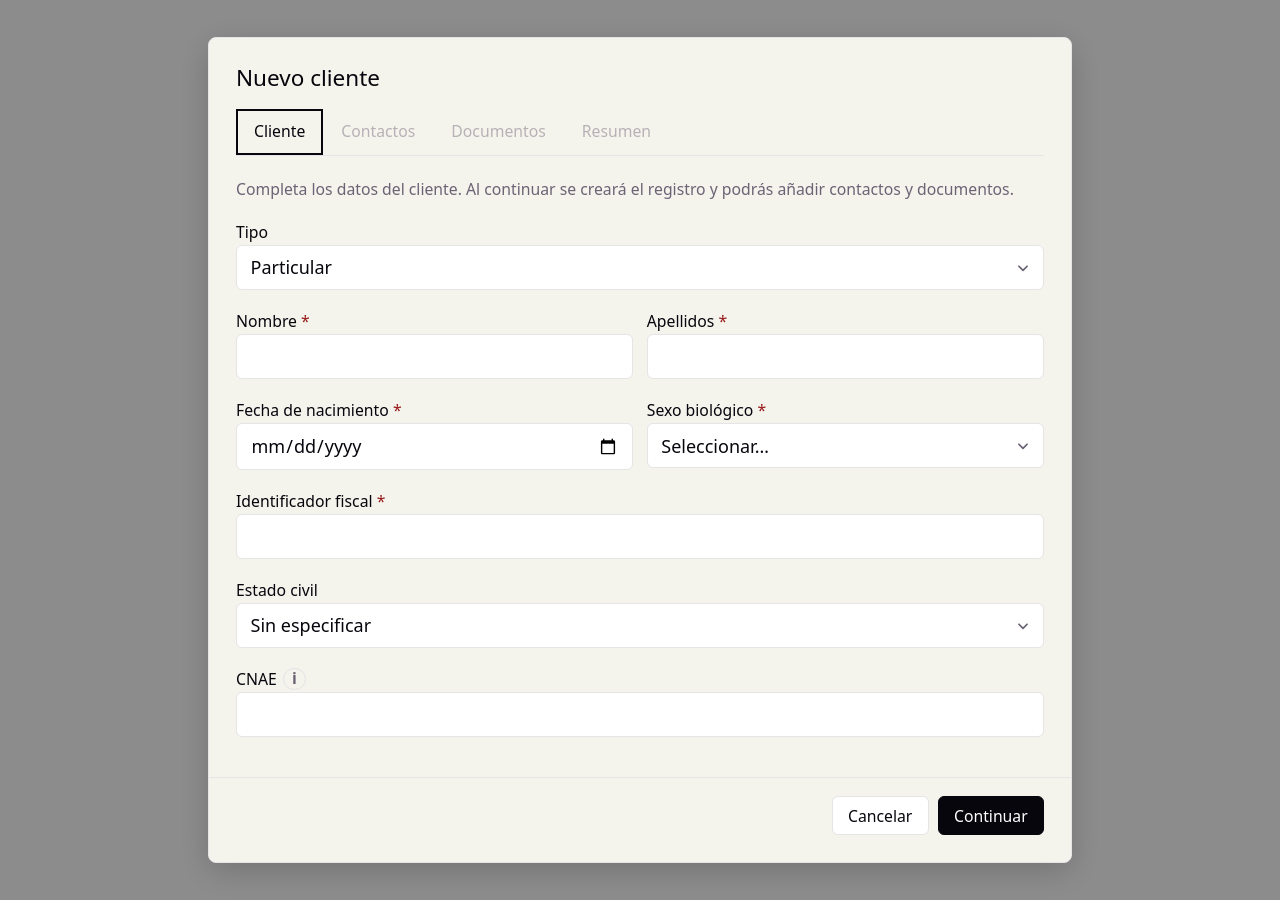
Test: CustomerOnboardingWizard › creates the customer when leaving the first tab and unlocks later tabs
Type "Juan" into the field labelled "Nombre *" at coordinates (435, 357), box [236,334,633,379]
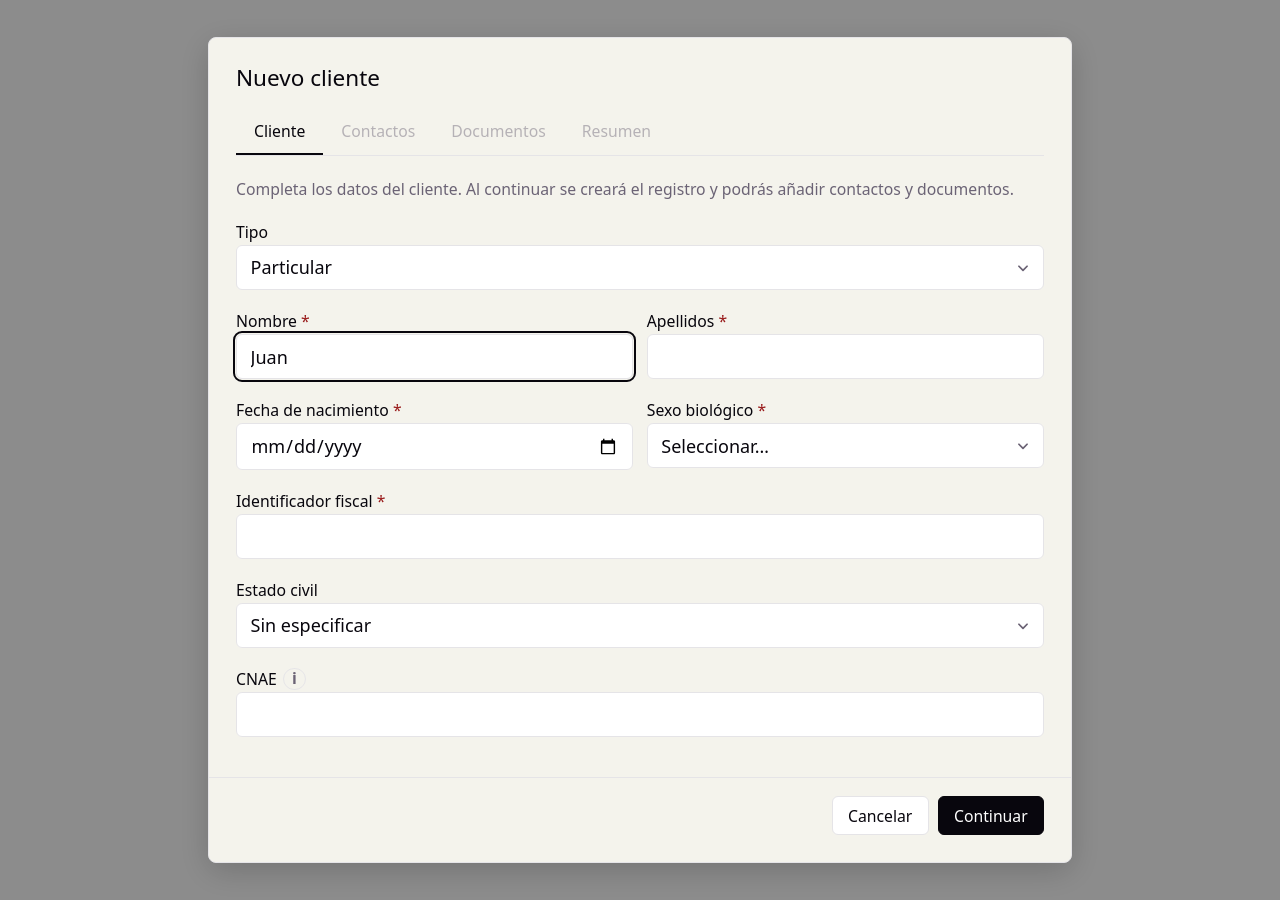
Type "Pérez" into the field labelled "Apellidos *" at coordinates (845, 357), box [647,334,1044,379]
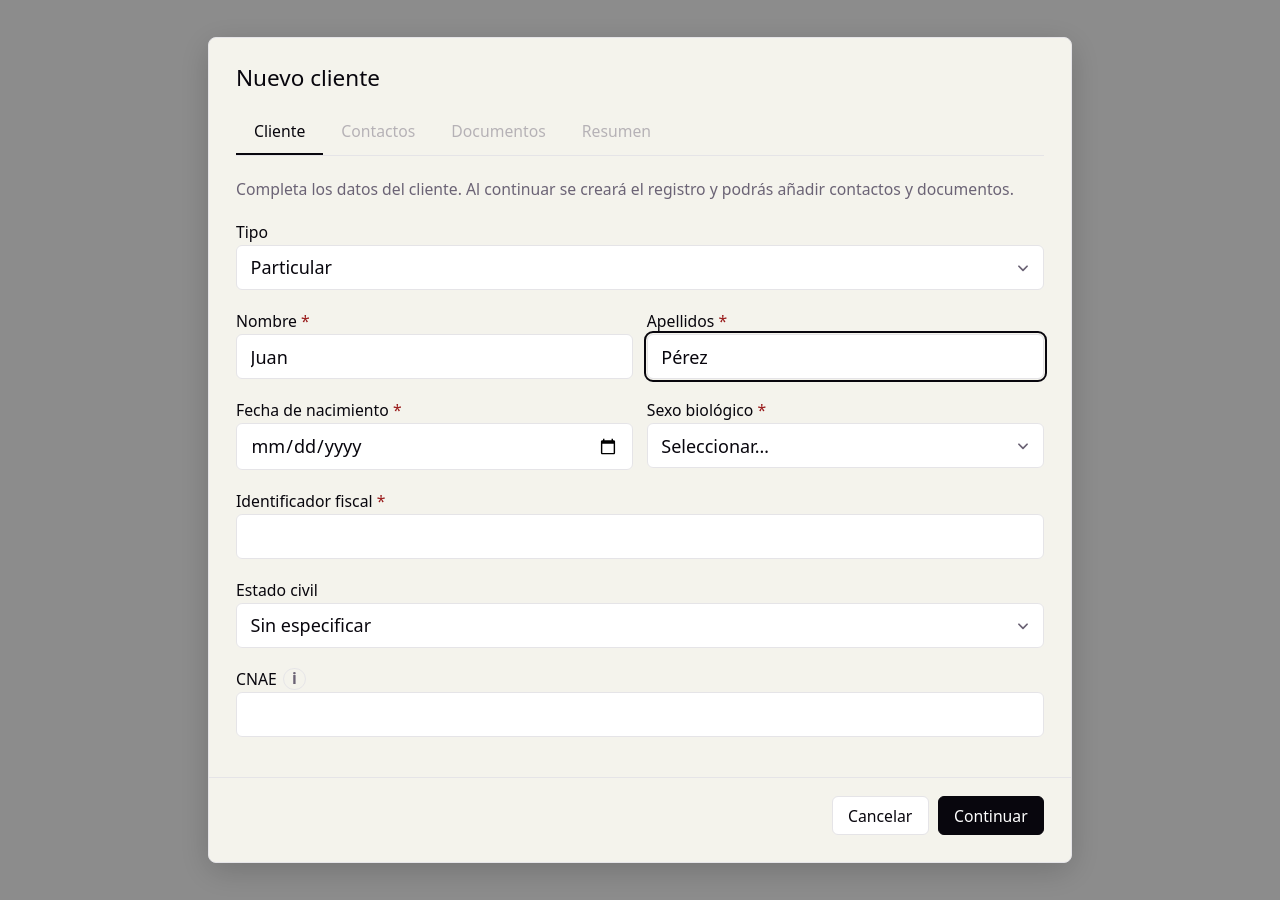
Type "1985-03-10" into the date field labelled "Fecha de nacimiento *" at coordinates (435, 447), box [236,423,633,470]
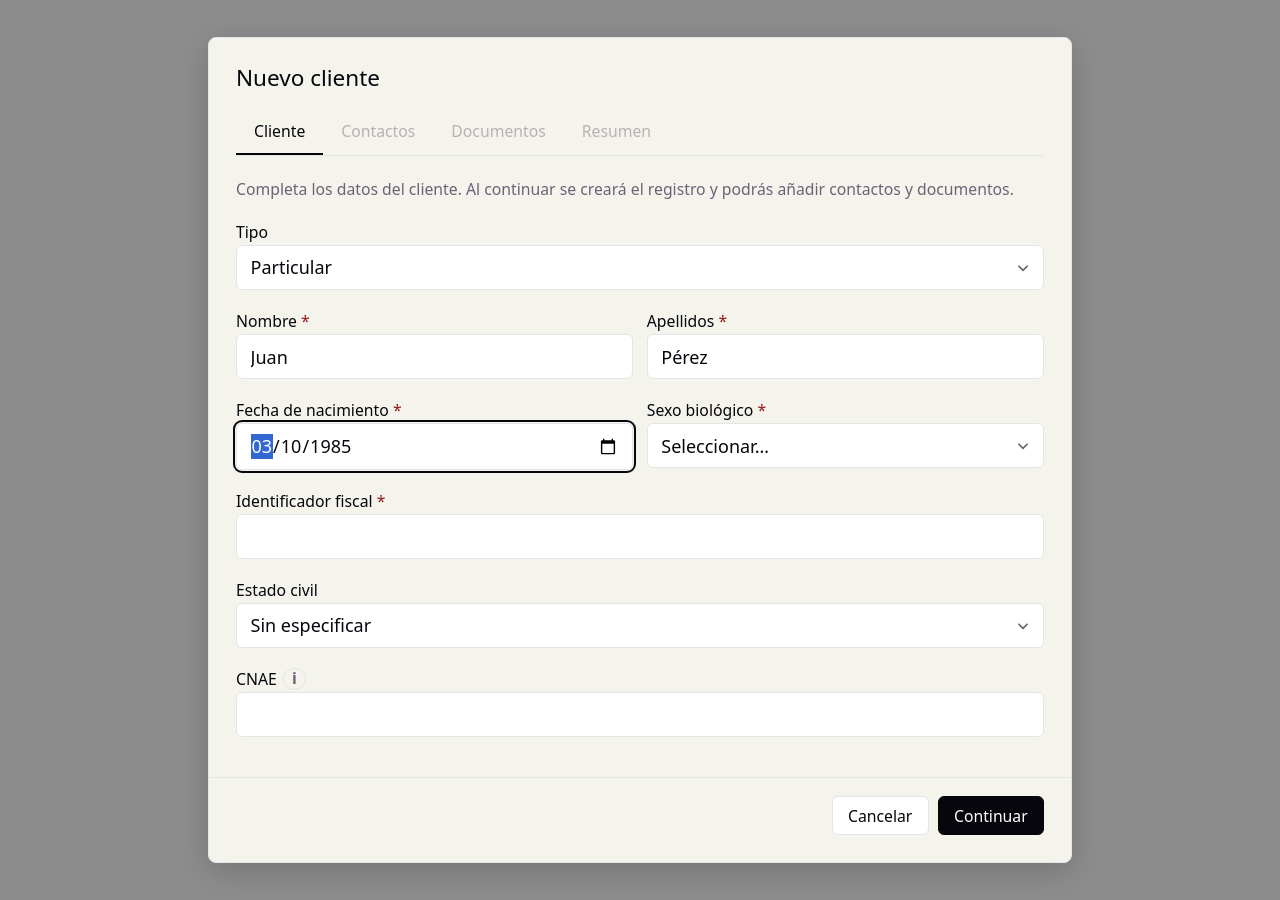
Select "Masculino" in the dropdown labelled "Sexo biológico *" at coordinates (845, 446), box [647,423,1044,468]
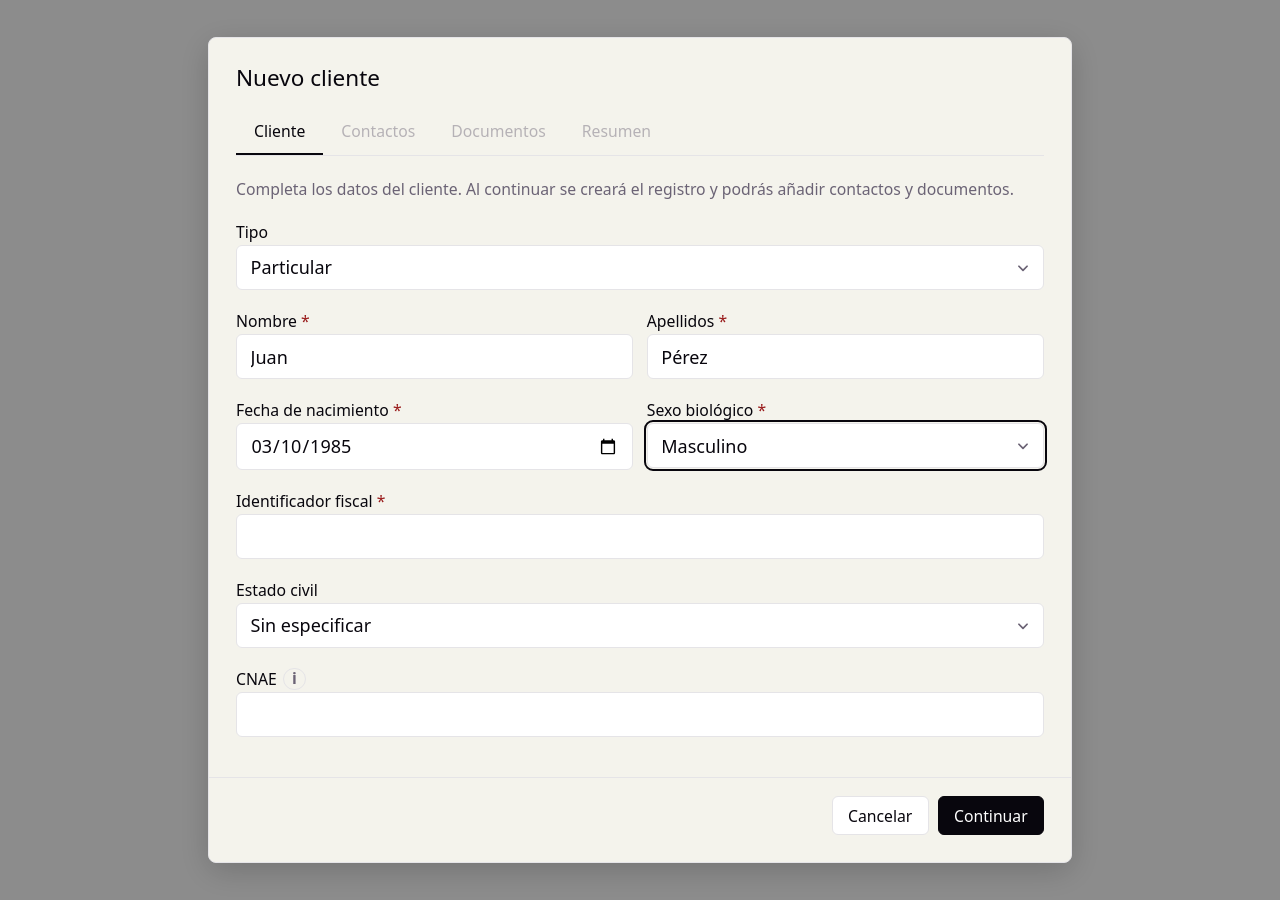
Type "12345678Z" into the field labelled "Identificador fiscal *" at coordinates (640, 536), box [236,514,1044,559]
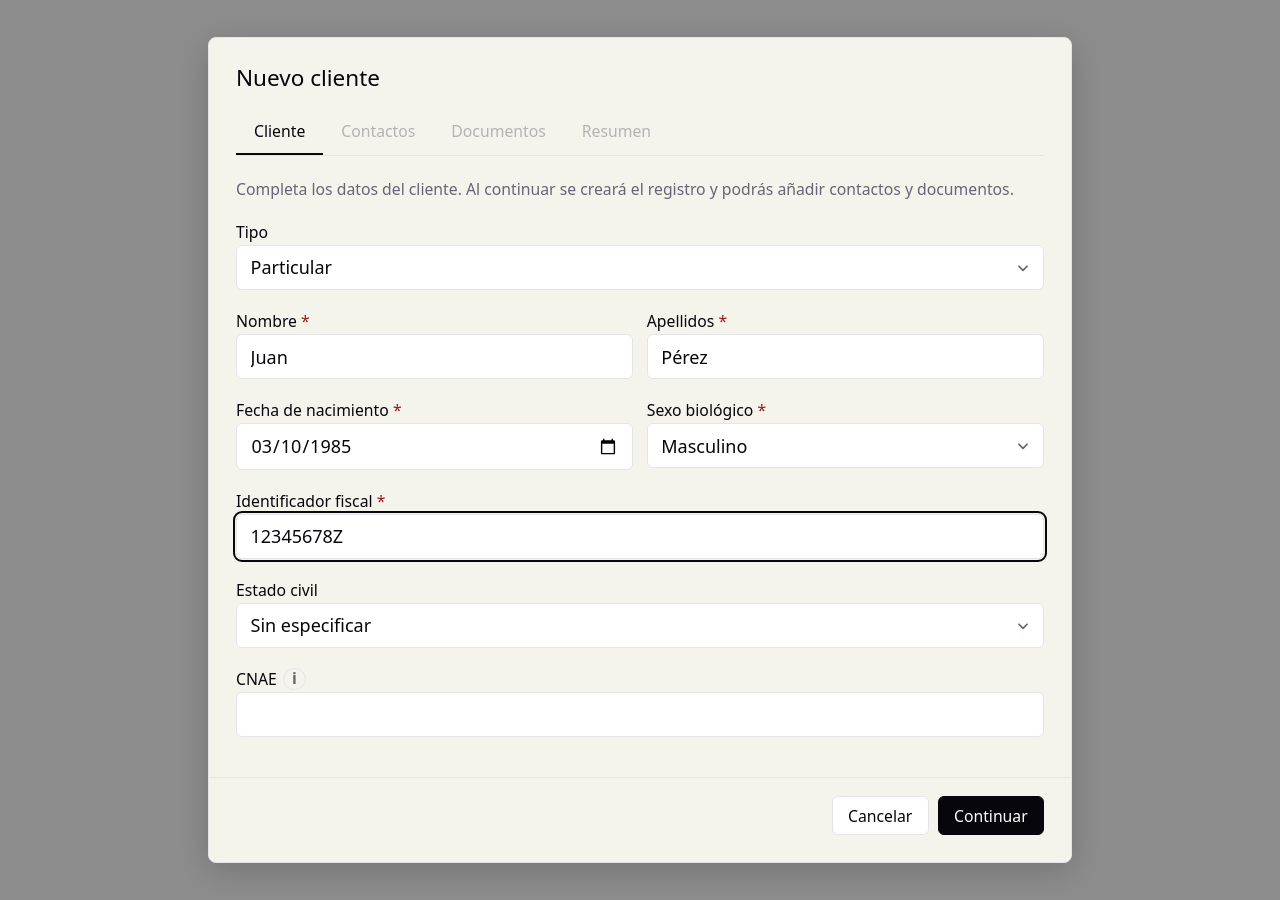
Click the button "Continuar" at coordinates (991, 816), box [938,796,1044,835]
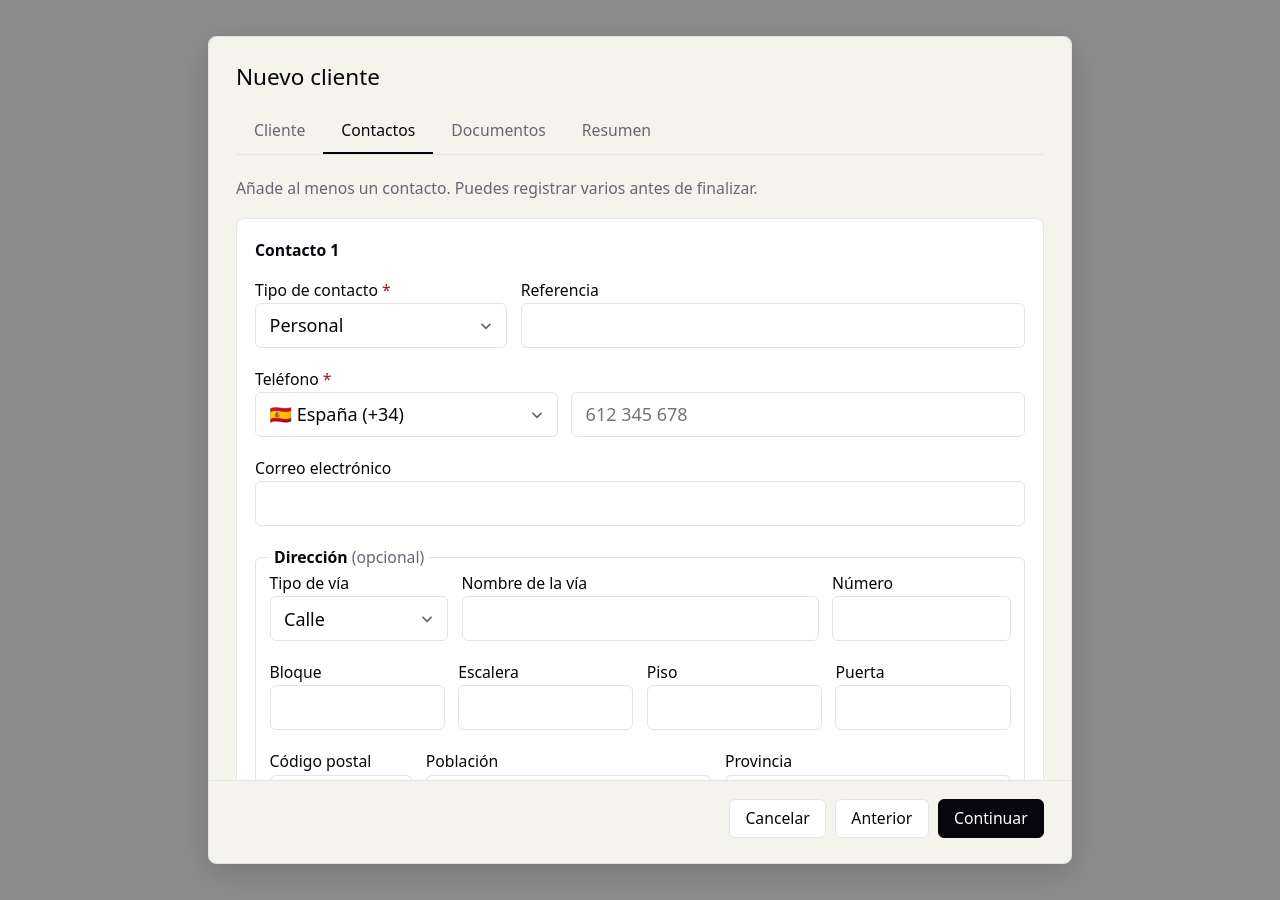
Now the text "Añade al menos un contacto" is shown, box [236,177,758,199]
Now the tab "Contactos" is enabled, box [323,108,433,154]
Now the tab "Documentos" is enabled, box [433,108,564,154]
